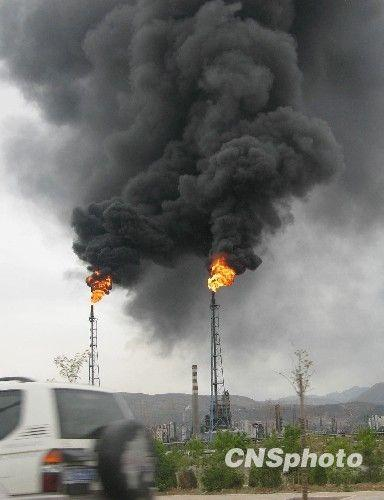smoke: (21, 1, 351, 269)
